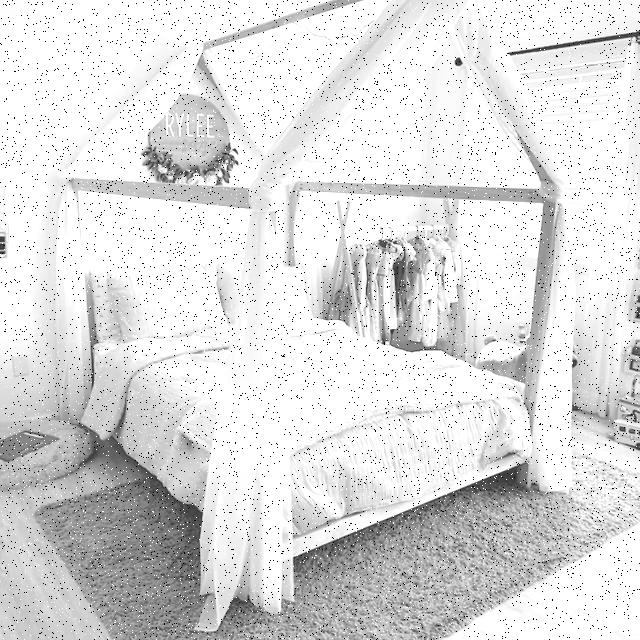bed: (87, 260, 522, 526)
